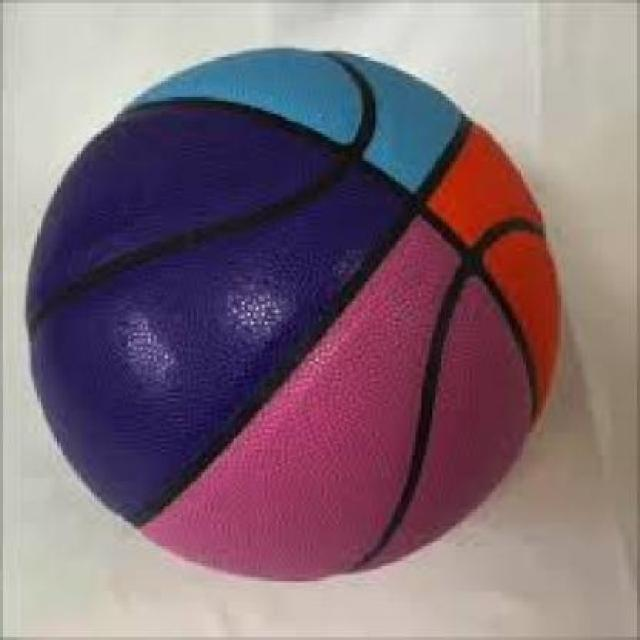basketball: (28, 50, 560, 582)
